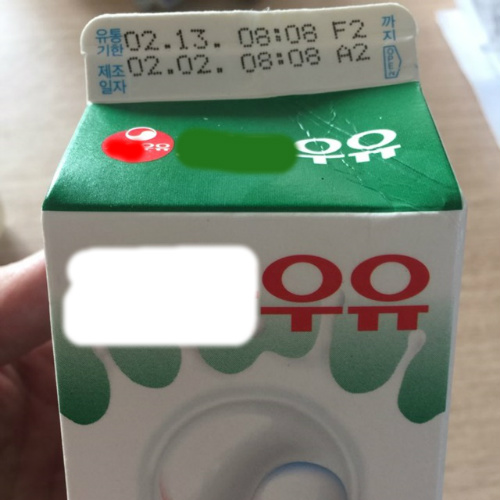milk: (43, 3, 463, 499)
